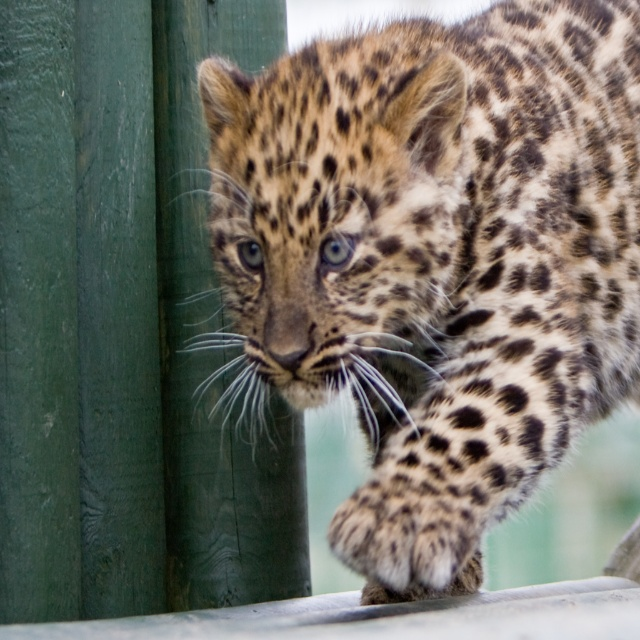Jaguar: (163, 0, 640, 605)
